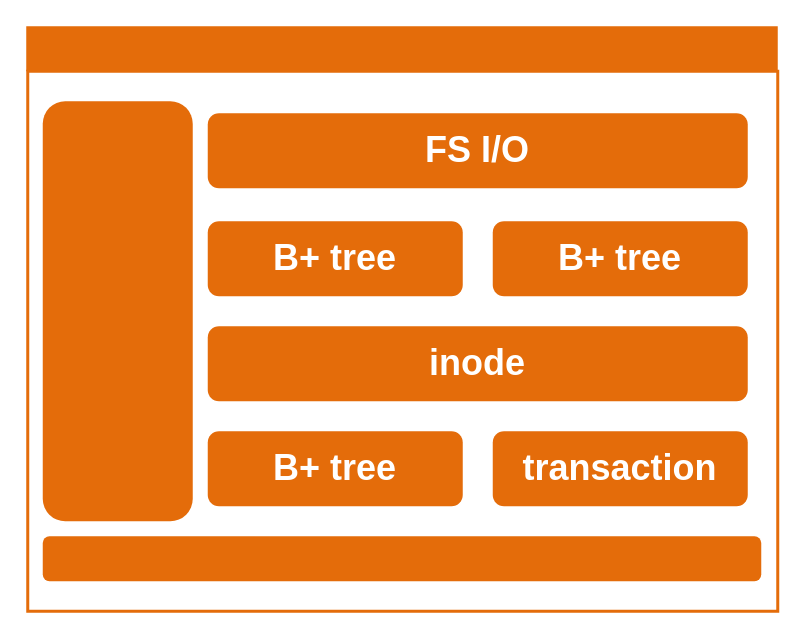
The diagram is 804 pixels wide and 638 high, and some of its shapes have lost their labels. The centre of each missing label's shape, as x and y in pixels:
"block dev" belongs at pixel 401 558.
"fdisk" belongs at pixel 117 310.
"安全可靠文件系统" belongs at pixel 401 48.
